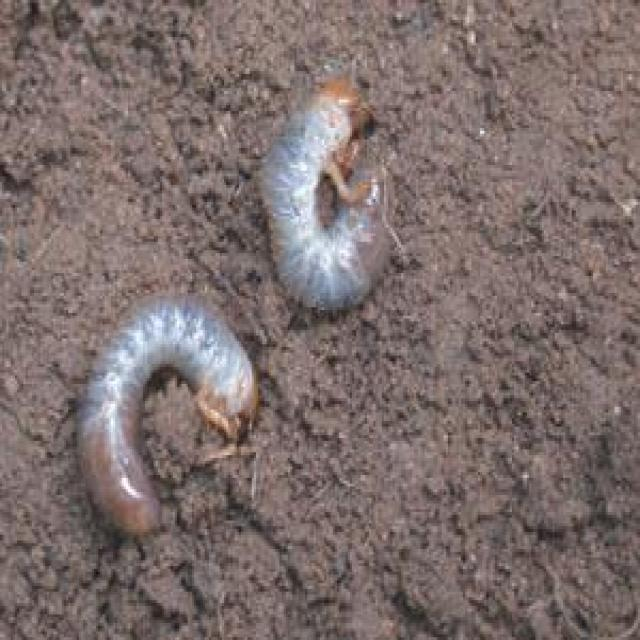Grub-Adult-: (61, 287, 284, 560), (252, 66, 406, 354)
